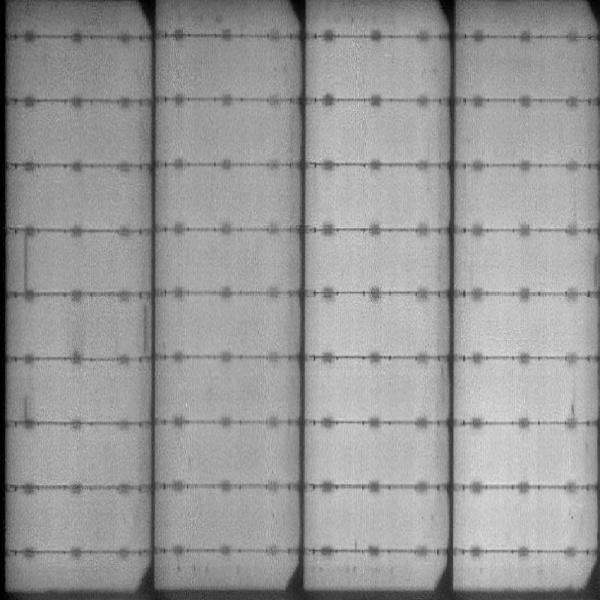scratch: (20, 228, 31, 295), (20, 390, 32, 427), (141, 303, 149, 358)
